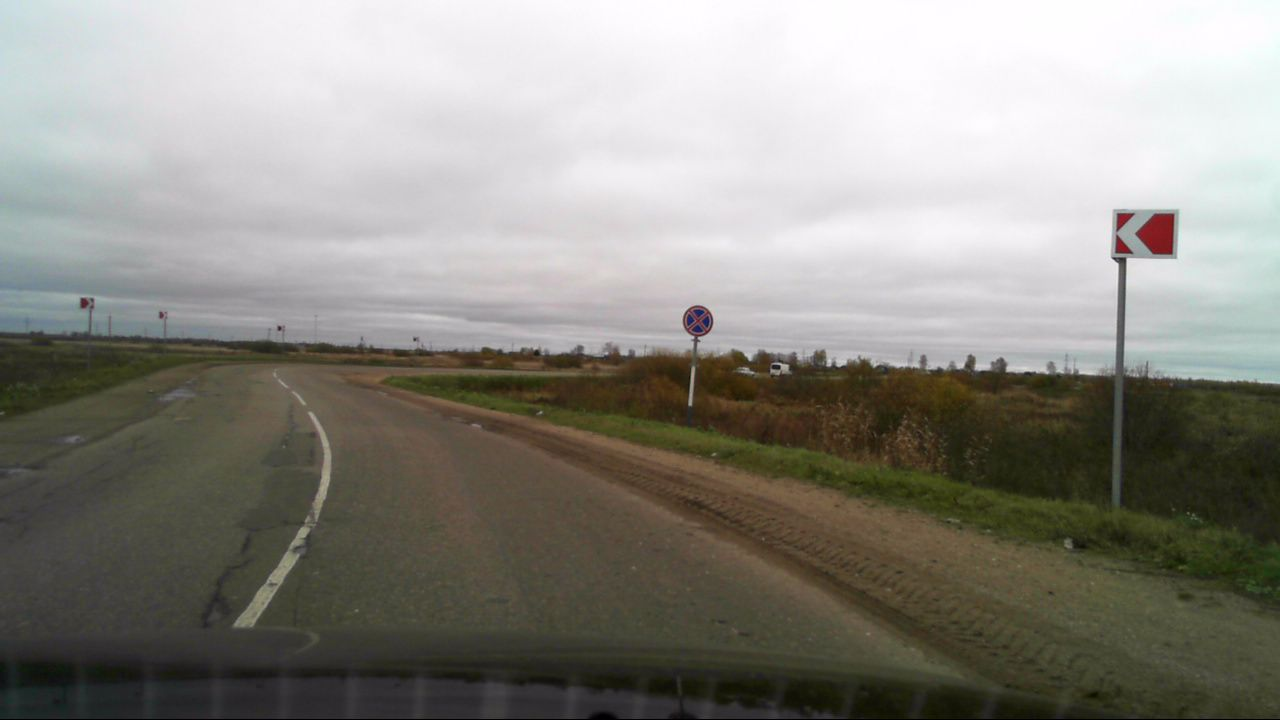No Parking: (682, 305, 714, 336)
